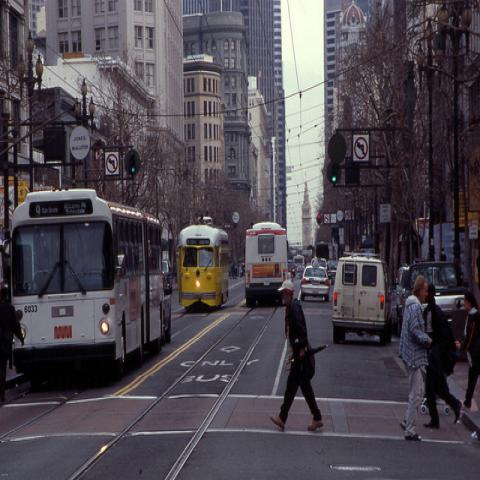bus: (9, 190, 165, 391), (246, 220, 290, 305), (293, 253, 305, 274)
car: (330, 253, 393, 347), (400, 258, 468, 338), (300, 255, 330, 302), (396, 264, 410, 336), (326, 258, 338, 280), (310, 258, 329, 268)
